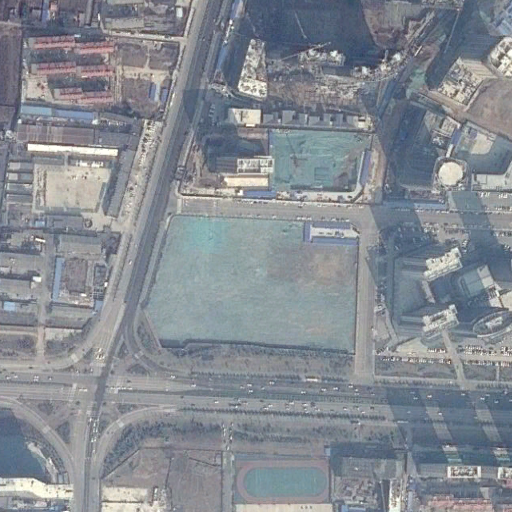cw: (144, 217, 358, 356), (267, 126, 373, 194)
